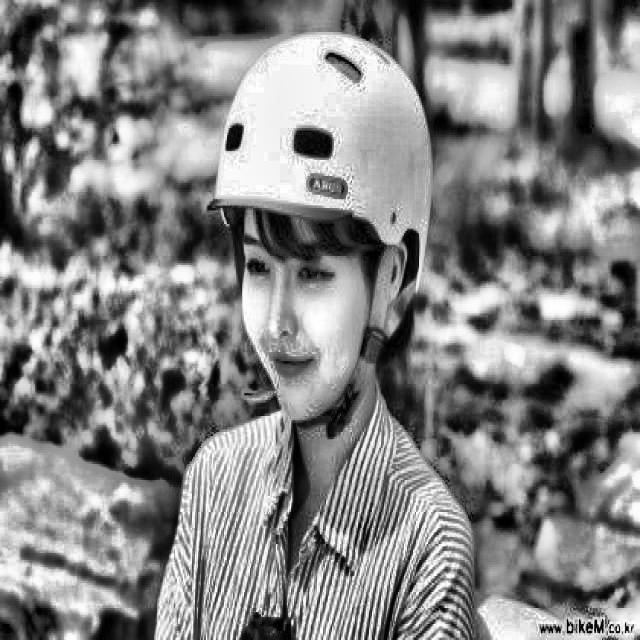Helmet: (189, 4, 443, 436)
